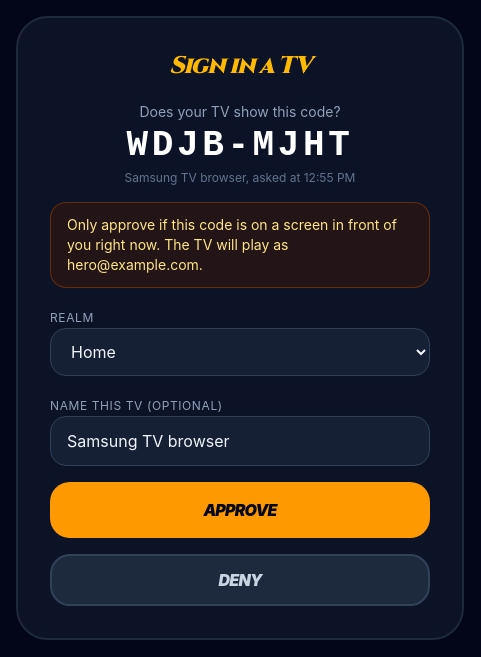
Test: LinkTv › looks up the code from the QR link and approves it for the chosen realm
Expected: the text "Does your TV show this code?" is shown, [139,103,341,120]
Select "Cousins" in the dropdown labelled "Realm" at (240, 352), box [50,328,430,376]
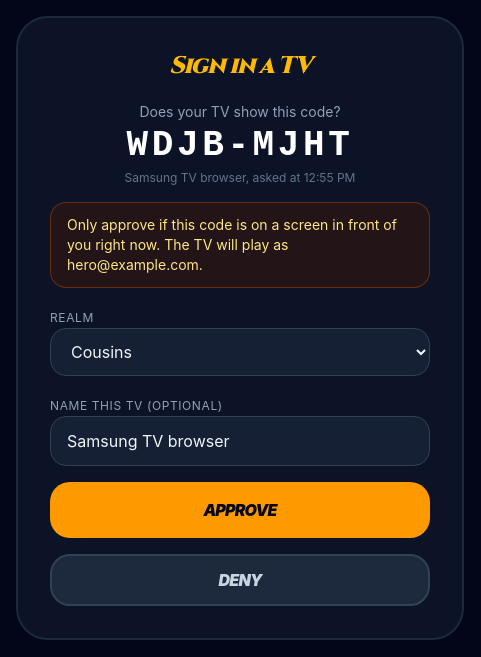
Replace the text in the field labelled "Name this TV (optional)" with "Living room" at (240, 441), box [50,416,430,466]
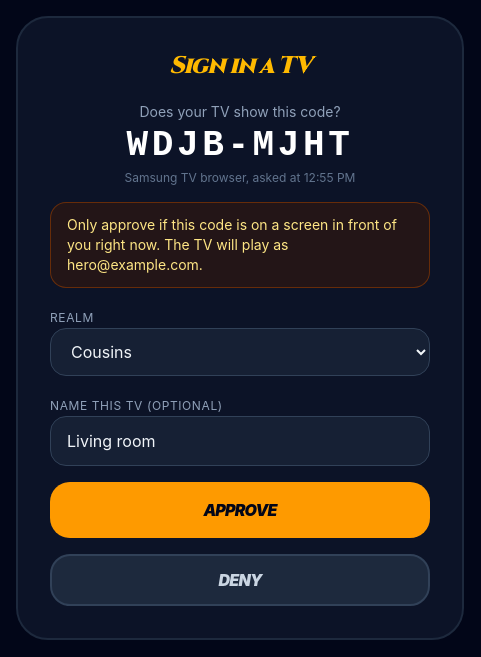
Click the button "Approve" at (240, 510), box [50,482,430,538]
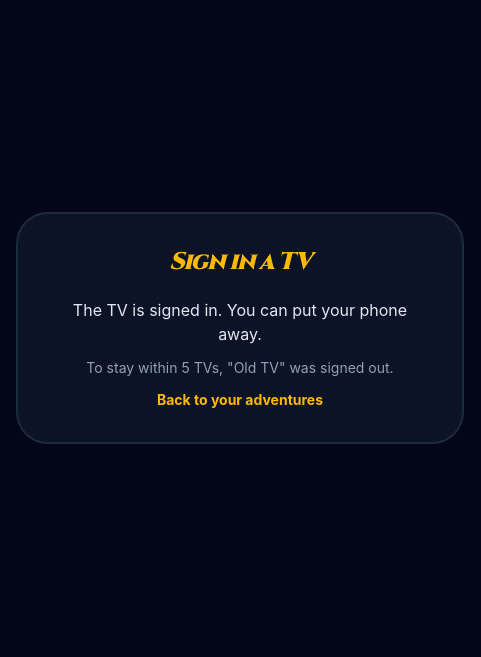
Result: the text "The TV is signed in. You can put your phone away." is shown at [50,298,430,346]
Result: the text "To stay within 5 TVs, \"Old TV\" was signed out." is shown at [86,359,394,376]
